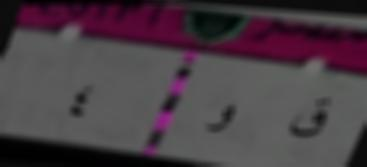4: (67, 82, 94, 126)
qaaf: (286, 94, 333, 150)
waw: (200, 99, 239, 140)
